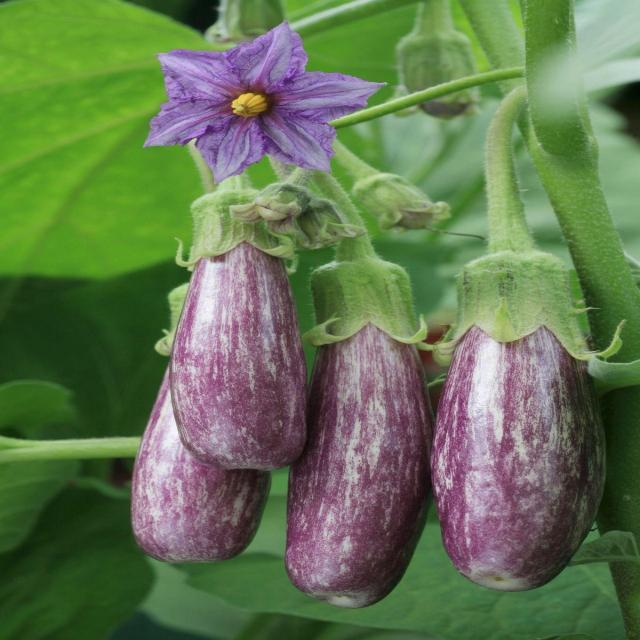eggplant: (428, 84, 605, 592), (282, 170, 434, 609), (167, 167, 307, 468)
